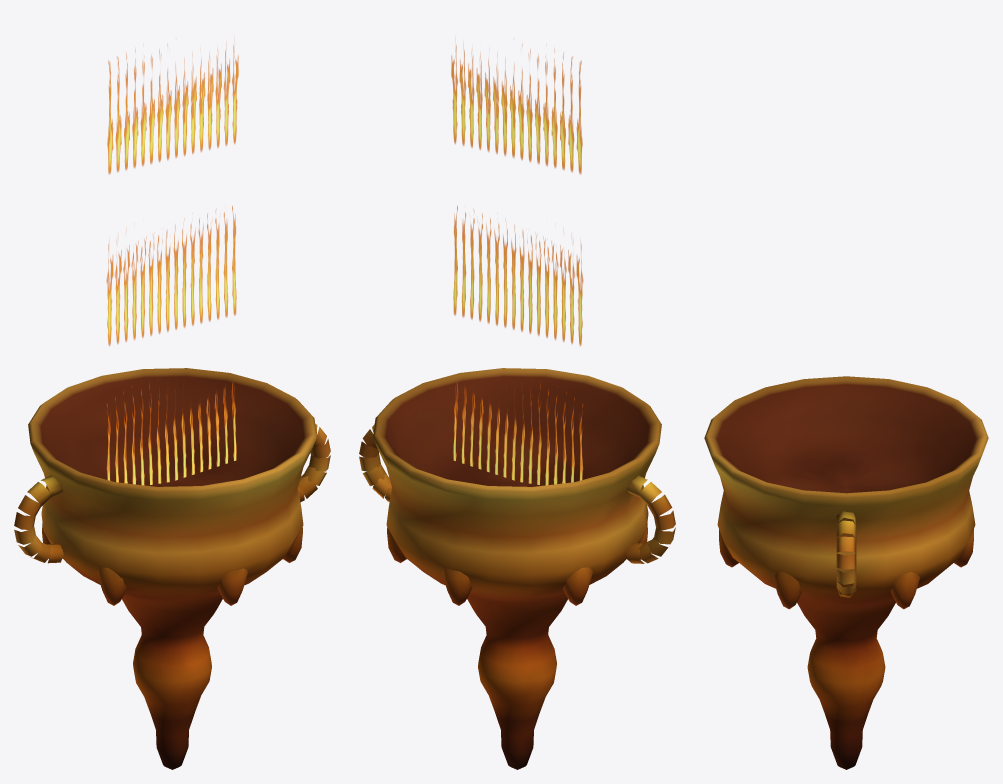
File: mm6_deco_sconce2_free.glb
3 views of the same model, side by side, from view 1: azimuth 30°, elevation 25°; view 2: azimuth 150°, elevation 25°; view 3: azimuth 270°, elevation 25° (orthographic). The views are drawn at different scales.
Parts seen in each view (by area): view 1: Sconce2Free; view 2: Sconce2Free; view 3: Sconce2Free.
Part boxes in pixels (x1,y1,x2,y2): Sconce2Free: (14,44,330,769); Sconce2Free: (359,44,675,769); Sconce2Free: (704,376,988,769).
Size of the model in its own units: 0.6906 by 1.55 by 0.5532.
Materials: 3 (3 with a texture image).
